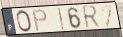6: (67, 6, 83, 31)
7: (100, 4, 114, 28)
I: (57, 7, 65, 31)
O: (15, 9, 33, 33)
P: (31, 8, 48, 32)
R: (81, 4, 102, 30)
